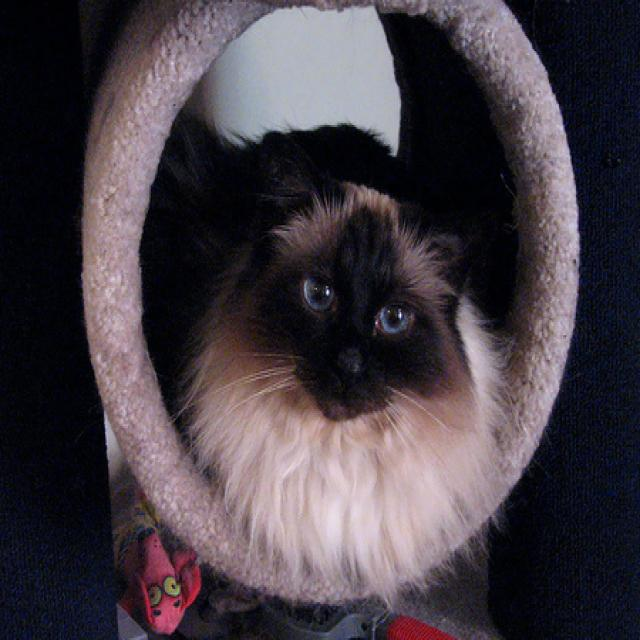Birman: (169, 132, 503, 583)
